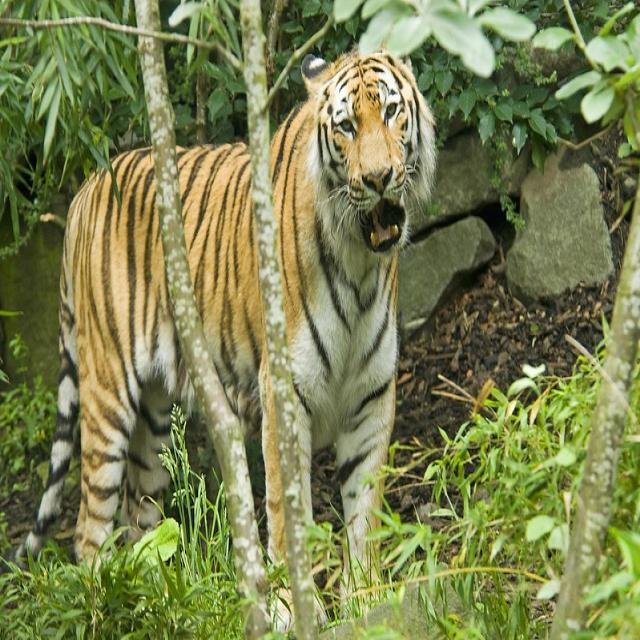Tiger: (56, 52, 433, 611)
